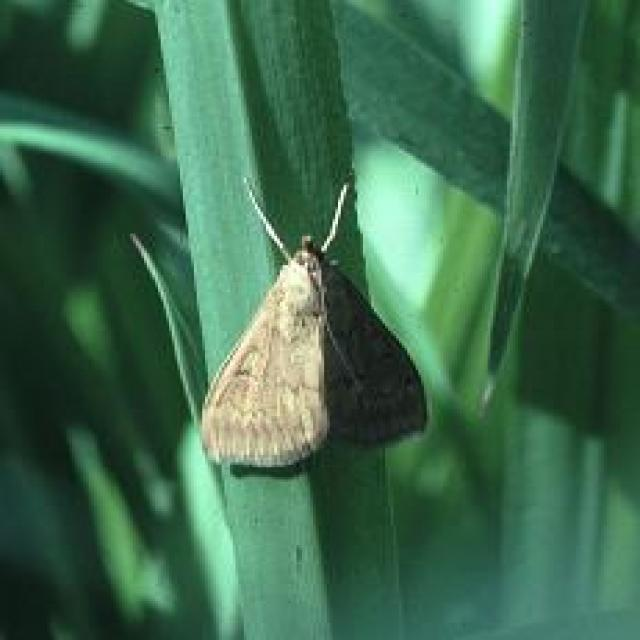cornborer-Adult-: (182, 168, 442, 492)
